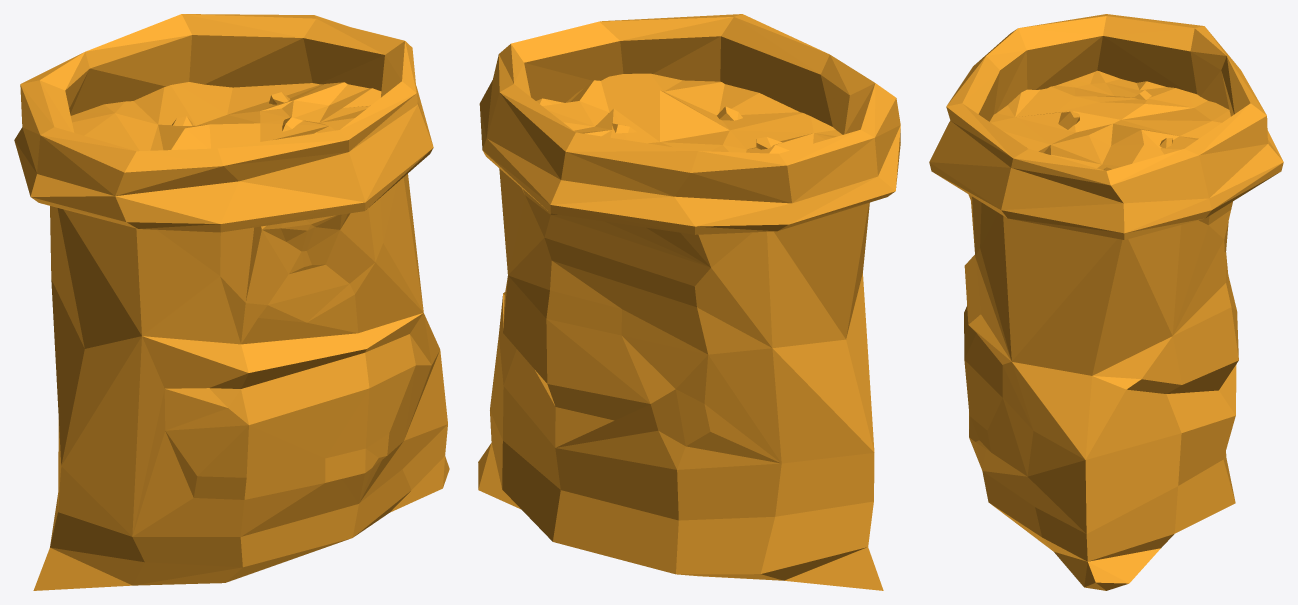
Rendered from SM_Bag_Soil_Open_Farm.fbx.
3 views of the same model, side by side, from view 1: azimuth 30°, elevation 25°; view 2: azimuth 150°, elevation 25°; view 3: azimuth 270°, elevation 25° (orthographic). The views are drawn at different scales.
Visible parts, largest first — view 1: bag-soil-open-farm; view 2: bag-soil-open-farm; view 3: bag-soil-open-farm.
Part boxes in pixels (<box>): bag-soil-open-farm: <box>14,14,449,590</box>; bag-soil-open-farm: <box>478,14,900,590</box>; bag-soil-open-farm: <box>929,14,1283,590</box>.
Bounding box in the file's own units: 0.6161 × 0.65 × 0.496.
